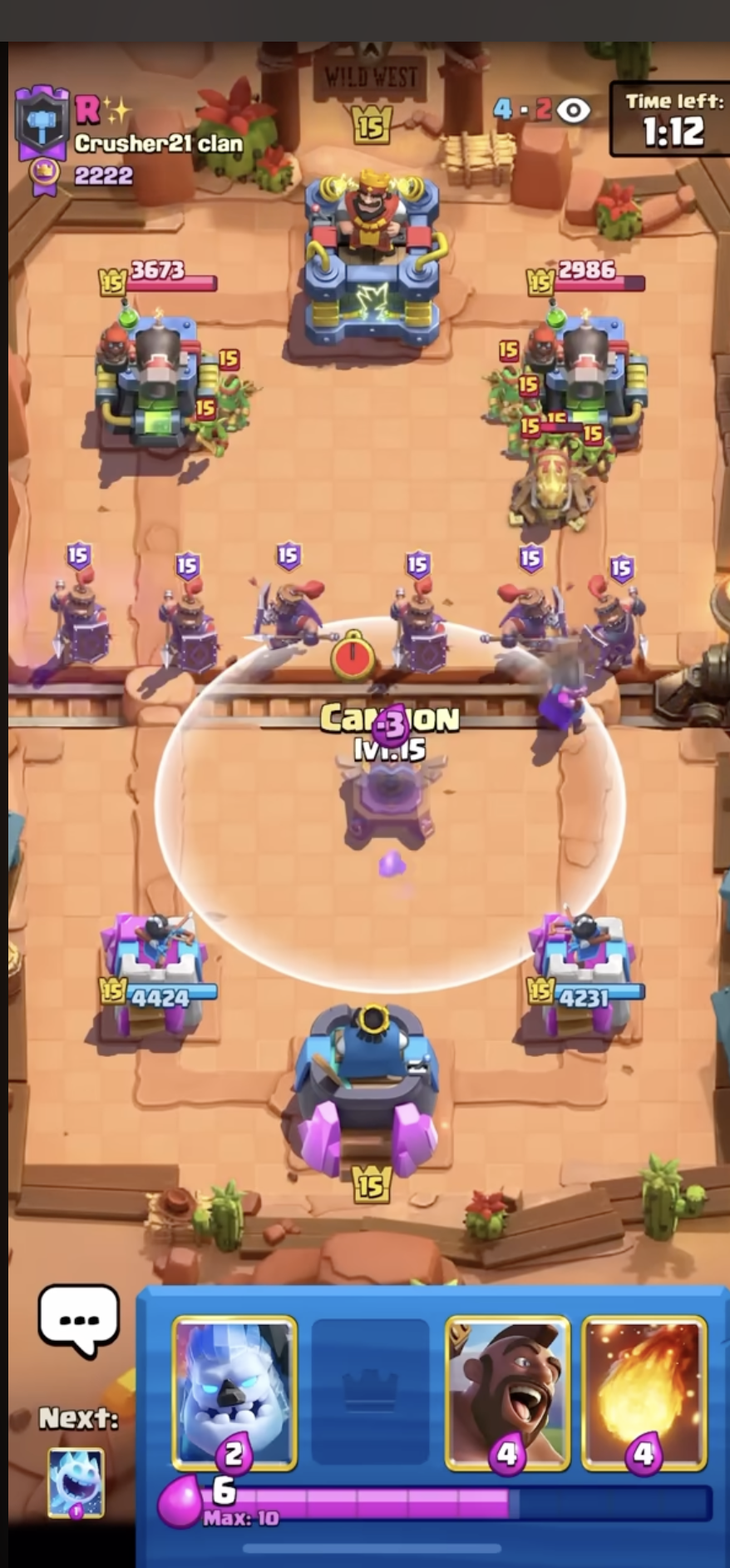evo_musketeer: (529, 635, 604, 750)
